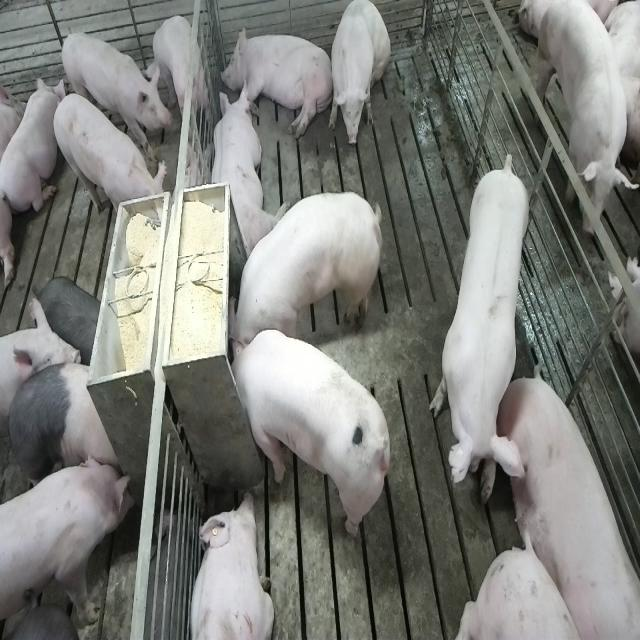Feeding: (221, 328, 387, 540), (230, 188, 388, 358)
Lateral_lying: (220, 23, 334, 141)
Sitting: (328, 0, 390, 148)
Standing: (429, 151, 533, 508), (529, 0, 640, 236), (2, 450, 136, 640), (1, 350, 126, 502), (50, 91, 166, 225), (59, 29, 171, 160), (149, 14, 205, 137)
Sternal_lying: (187, 490, 275, 640), (208, 80, 280, 254), (3, 73, 63, 215)
